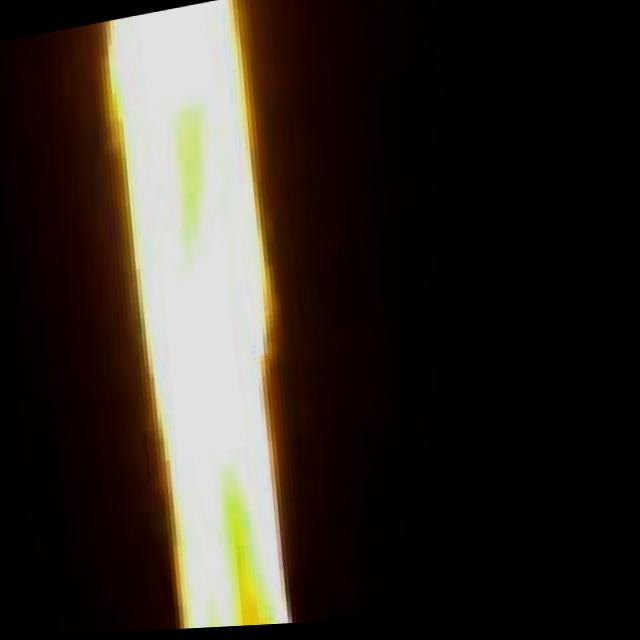fire: (24, 0, 411, 638)
